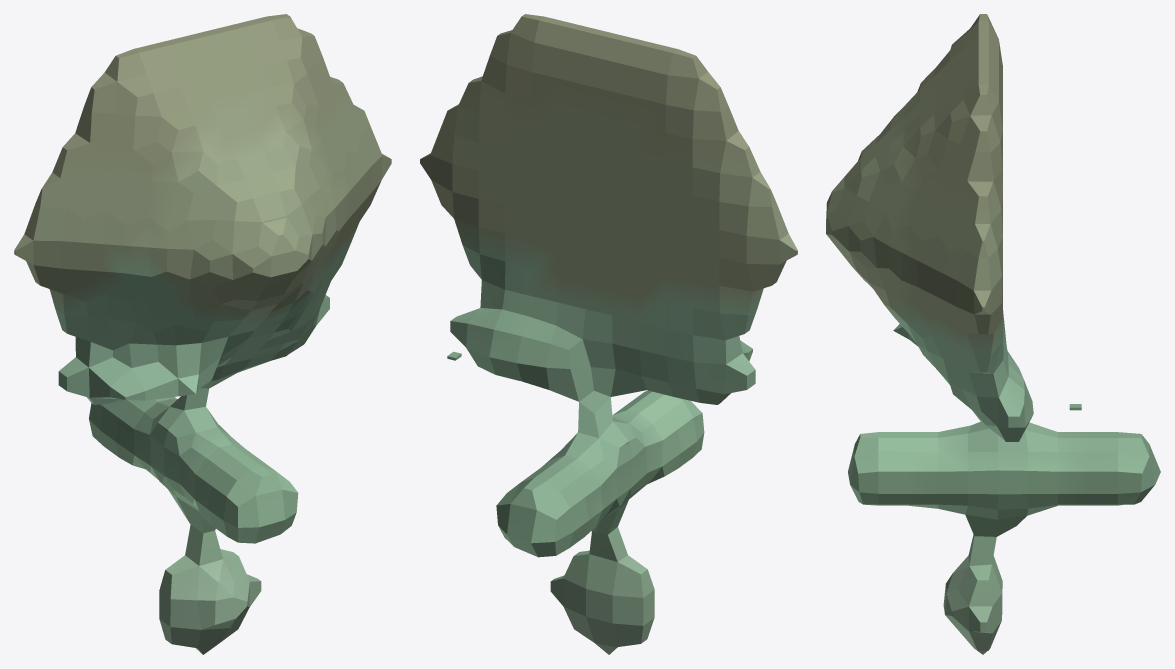
File: sporeSwarm.glb
3 renders of one model, left to right at view 1: azimuth 30°, elevation 25°; view 2: azimuth 150°, elevation 25°; view 3: azimuth 270°, elevation 25°, orthographic. The views are drawn at different scales.
Parts seen in each view (by area): view 1: geometry_0; view 2: geometry_0; view 3: geometry_0.
Part boxes in pixels (x1,y1,x2,y2): geometry_0: (14,14,391,654); geometry_0: (420,14,797,654); geometry_0: (826,14,1160,654).
Size of the model in its own units: 0.5863 by 0.9232 by 0.4656.
1 material, 1 textured.
